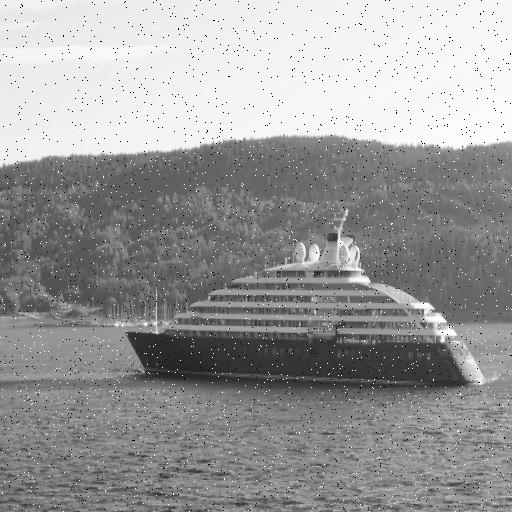cruises: (122, 198, 490, 395)
